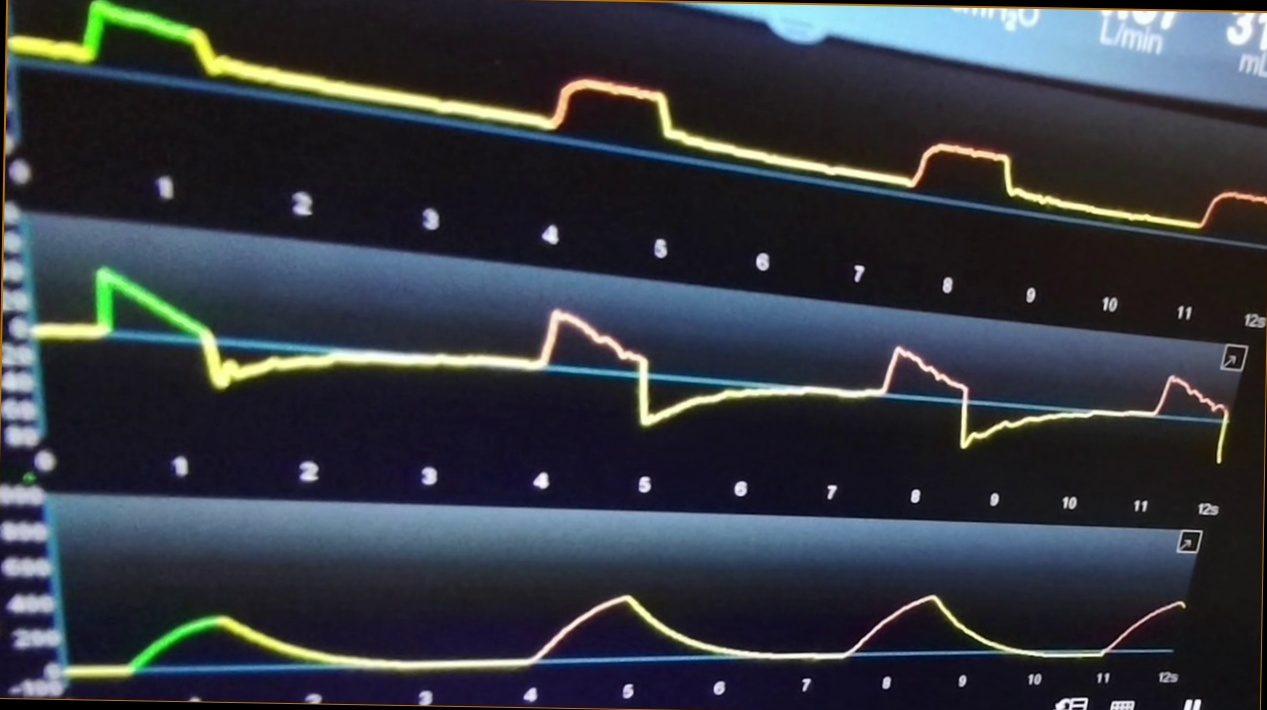Accumulation Flow: (34, 266, 1231, 462)
Volume: (70, 564, 1186, 684)
